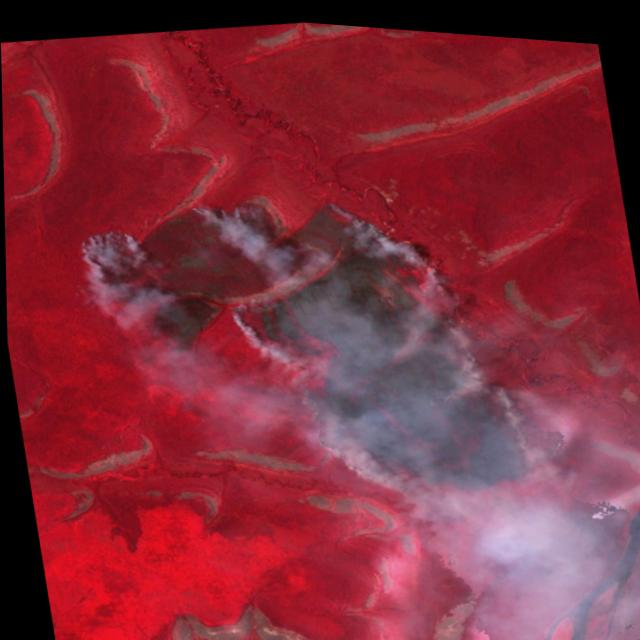fire: (52, 147, 553, 574)
